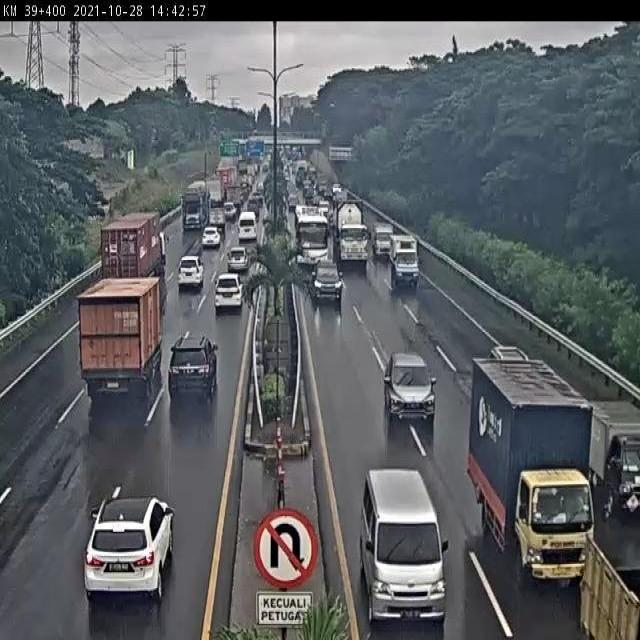big bus: (293, 205, 332, 279)
big truck: (79, 276, 168, 401), (101, 211, 172, 305), (332, 194, 372, 270)
car: (361, 467, 450, 629), (83, 492, 176, 601), (384, 354, 437, 426), (166, 336, 220, 400), (311, 261, 343, 312), (216, 271, 245, 313), (178, 252, 205, 289), (227, 243, 246, 268), (203, 227, 222, 249)
small truck: (467, 357, 596, 595), (390, 233, 421, 291), (374, 222, 397, 266)
